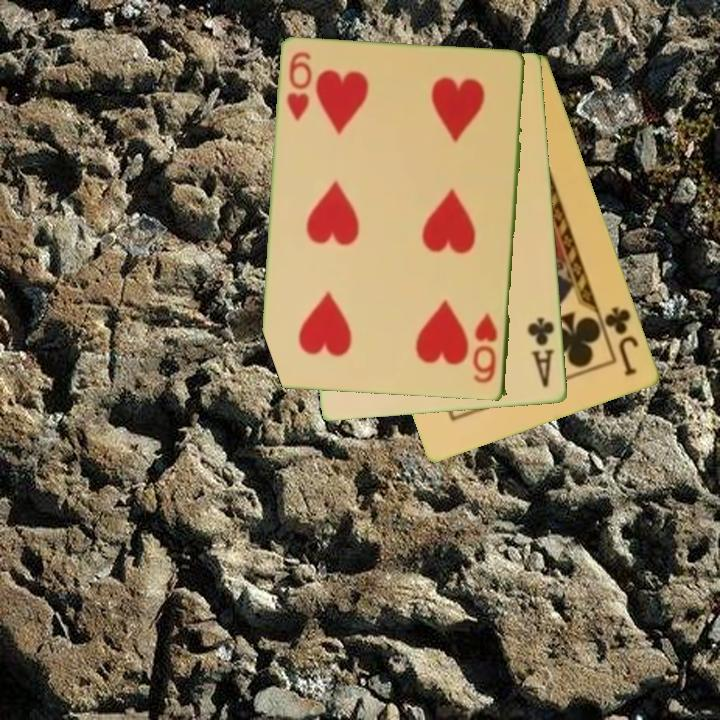6h: (470, 310, 501, 387), (284, 48, 315, 125)
Ac: (524, 314, 558, 391)
Jc: (601, 303, 642, 379)
